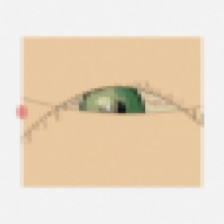corneal_ulcer: (75, 82, 130, 125)
